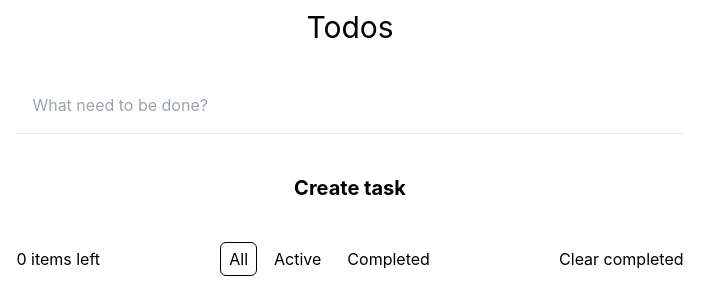
todo adding
Type "task1" into the field named "task-form-input" at {"x": 350, "y": 105}, box [16,77,684,133]
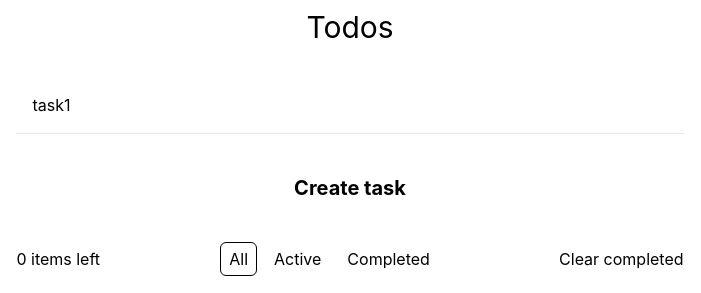
Submit the form named "task-form", box [16,77,684,134]
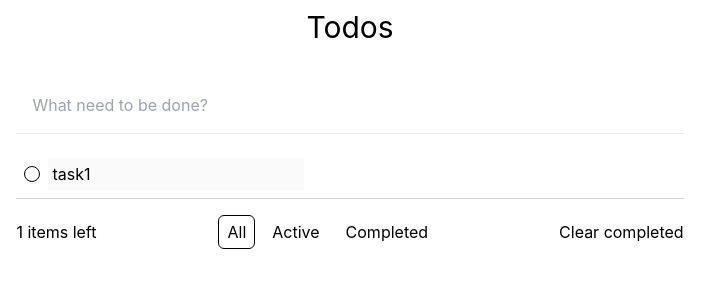
Check: the field named "task-input" holds "task1", box [48,158,304,190]
